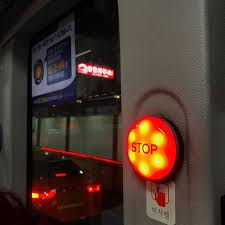bell: (124, 111, 188, 195)
